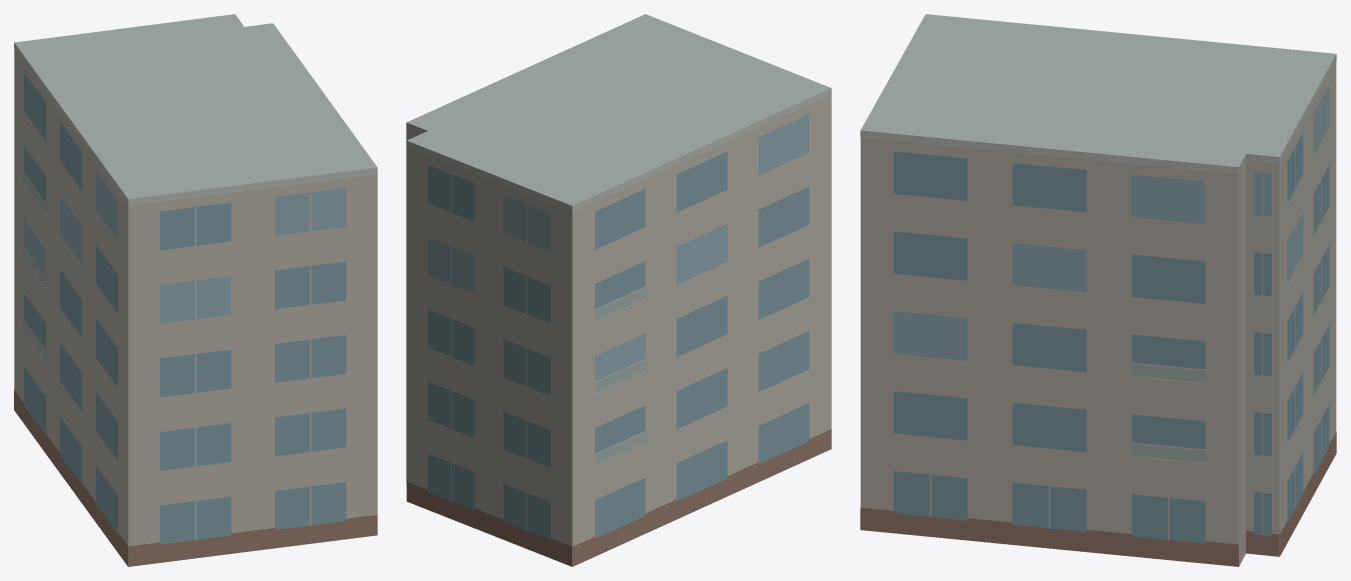
Rendered from survey-upis-32660310.glb.
3 renders of one model, left to right at view 1: azimuth 30°, elevation 25°; view 2: azimuth 150°, elevation 25°; view 3: azimuth 270°, elevation 25°, orthographic. The views are drawn at different scales.
Parts seen in each view (by area): view 1: survey-upis-32660310.tmp; view 2: survey-upis-32660310.tmp; view 3: survey-upis-32660310.tmp.
Part boxes in pixels (x1,y1,x2,y2): survey-upis-32660310.tmp: (14, 14, 377, 566); survey-upis-32660310.tmp: (406, 14, 831, 566); survey-upis-32660310.tmp: (860, 14, 1336, 566).
Bounding box in the file's own units: 11.61 × 14.1 × 15.23.
